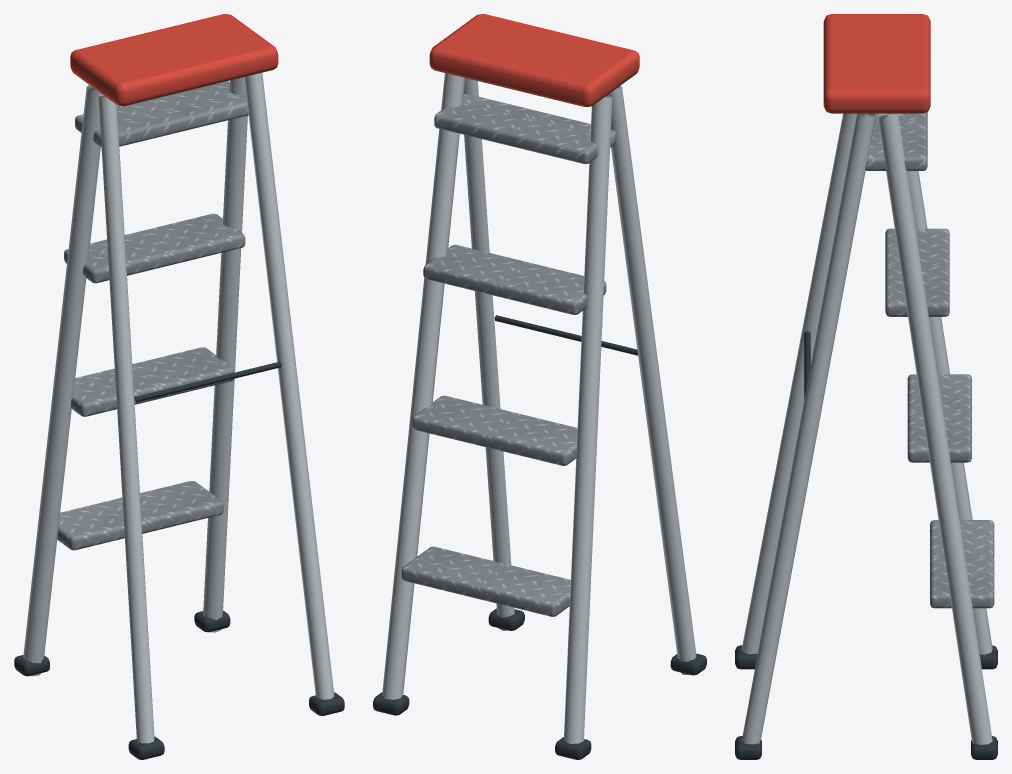
The model's file is staff-ladder.fbx.
3 views of the same model, side by side, from view 1: azimuth 30°, elevation 25°; view 2: azimuth 150°, elevation 25°; view 3: azimuth 270°, elevation 25° (orthographic). The views are drawn at different scales.
Visible parts, largest first — view 1: Body; view 2: Body; view 3: Body.
Boxes of the visible parts, <box> form: Body: <box>14,14,344,759</box>; Body: <box>373,14,706,759</box>; Body: <box>735,14,997,759</box>.
Bounding box in the file's own units: 0.46 × 1.36 × 0.49.
